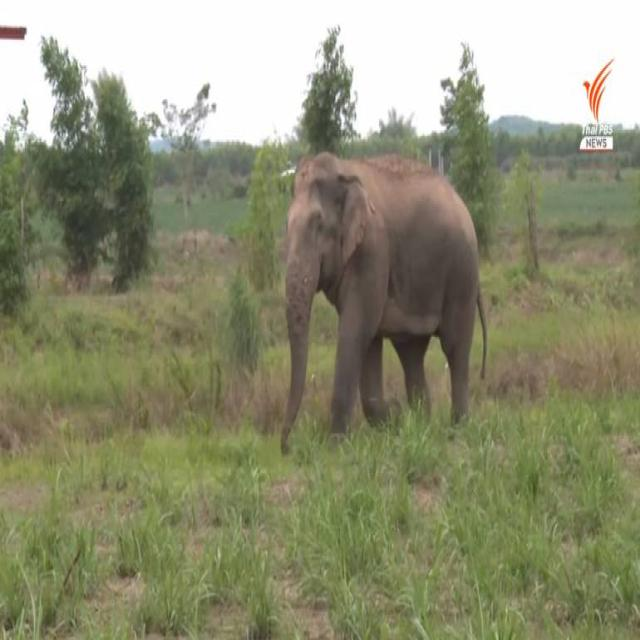Elephant: (279, 143, 493, 447)
